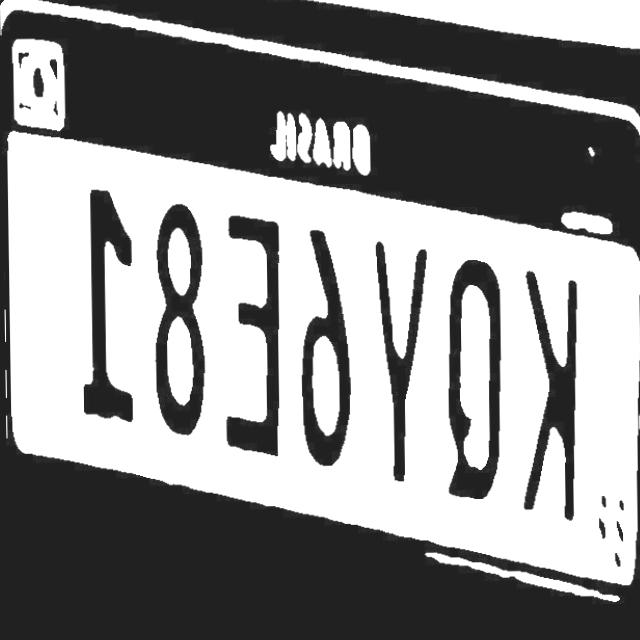1: (68, 184, 140, 432)
6: (294, 221, 356, 476)
8: (144, 197, 214, 446)
e: (219, 209, 290, 463)
k: (515, 268, 588, 526)
q: (439, 256, 512, 512)
y: (366, 237, 436, 495)
